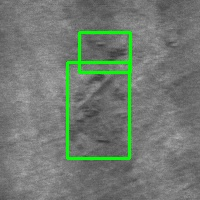rolled-in_scale: (67, 62, 129, 158), (79, 32, 130, 72)
